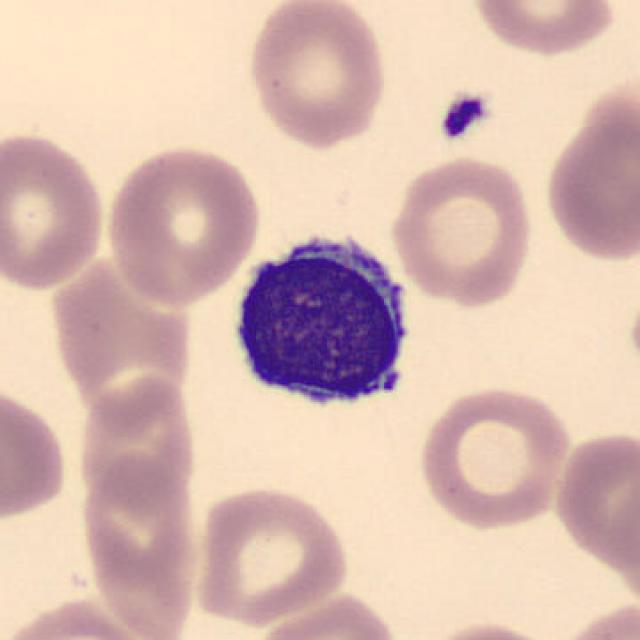Lymphocyte: (221, 222, 423, 425)
Platelets: (436, 88, 490, 143)
RBC: (37, 248, 194, 431), (99, 141, 265, 307), (414, 381, 574, 532), (187, 483, 352, 628), (76, 453, 202, 640), (386, 152, 537, 308), (244, 0, 391, 150), (540, 81, 640, 266), (0, 127, 110, 294), (73, 372, 201, 511), (550, 425, 638, 573), (0, 379, 71, 527), (469, 0, 619, 58), (249, 589, 403, 640), (2, 594, 164, 640), (551, 597, 638, 640), (414, 617, 566, 640)
